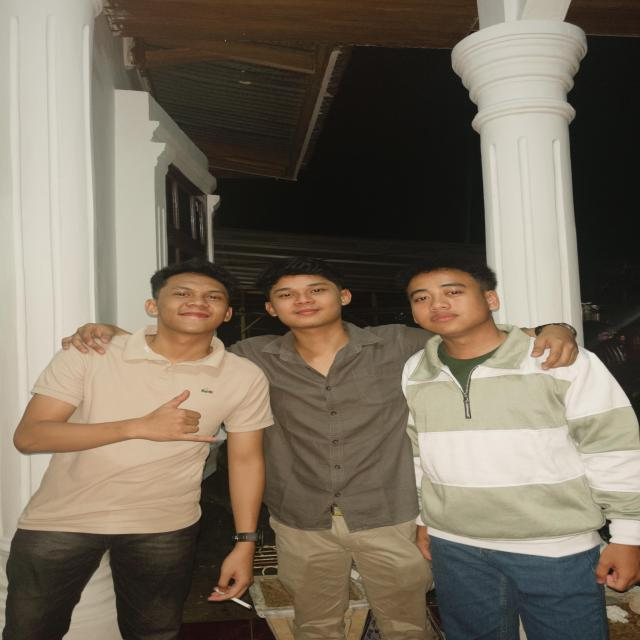nohelmet: (387, 256, 514, 336), (143, 260, 245, 344), (258, 258, 363, 337)
